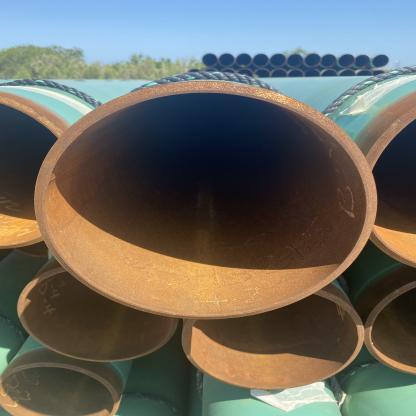clean: (150, 68, 183, 99)
